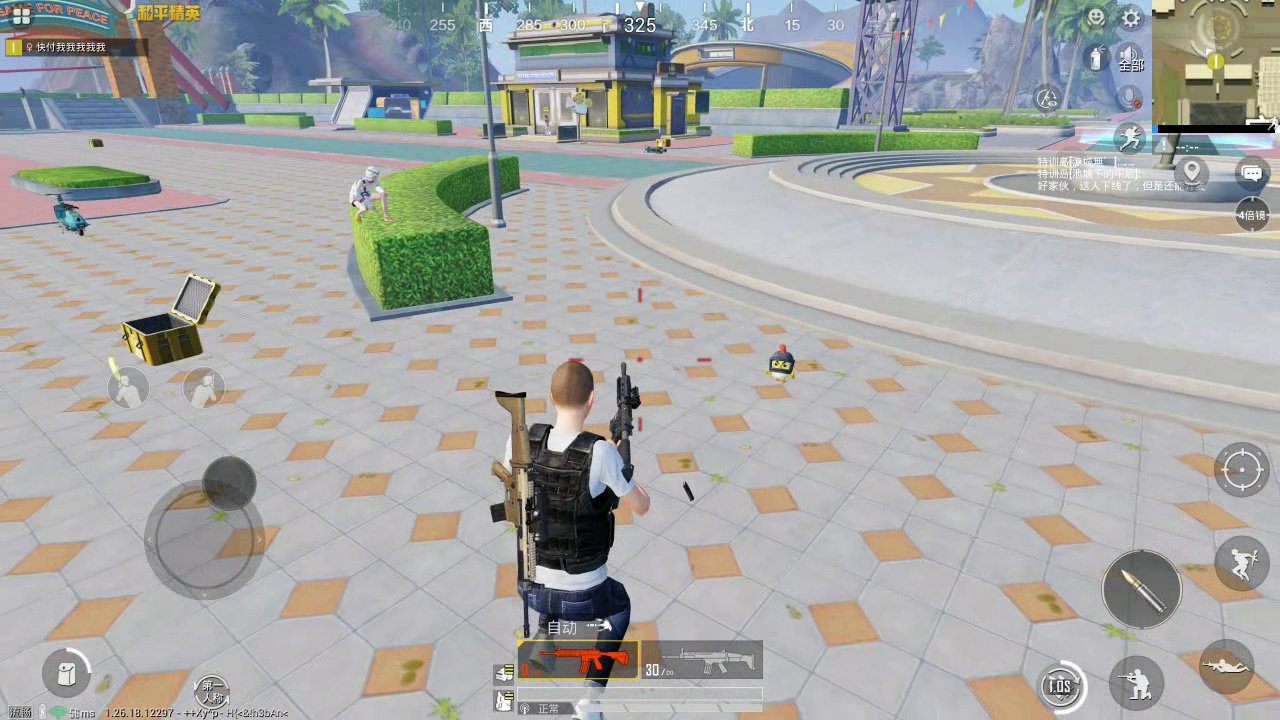enemy: (348, 167, 392, 225)
